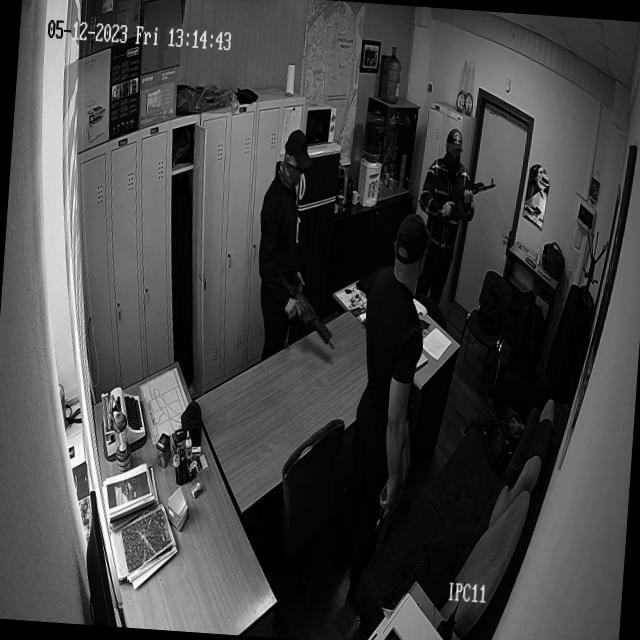gun: (272, 270, 340, 353), (442, 173, 496, 218), (372, 481, 398, 536)
person: (252, 131, 310, 348)
person with a gun: (346, 214, 424, 546), (253, 132, 311, 346), (418, 128, 476, 299)
